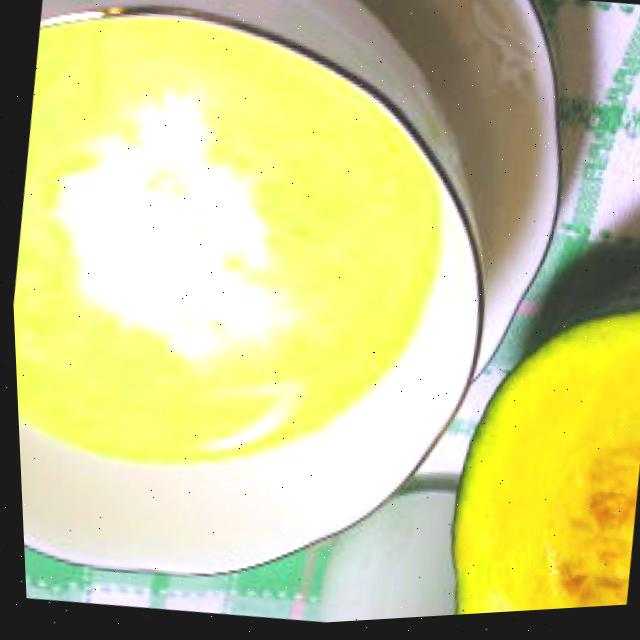汤锅炖物: (0, 0, 597, 640)
